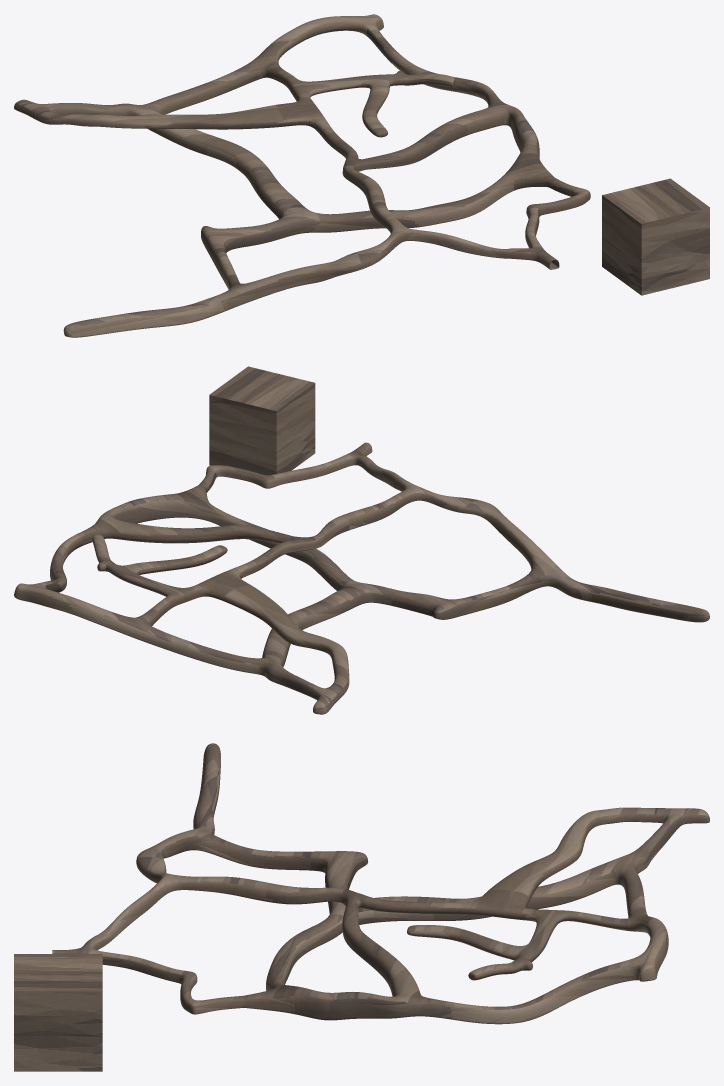
File: Cave.fbx
The picture shows the model from 3 angles, top to bottom: view 1: azimuth 30°, elevation 25°; view 2: azimuth 150°, elevation 25°; view 3: azimuth 270°, elevation 25°; orthographic projection. The views are drawn at different scales.
Visible parts, largest first — view 1: Cube, Cube.001; view 2: Cube, Cube.001; view 3: Cube, Cube.001.
Part boxes in pixels (x1=…): Cube: x1=14, y1=14, x2=590, y2=337; Cube.001: x1=602, y1=178, x2=709, y2=295; Cube: x1=14, y1=442, x2=709, y2=714; Cube.001: x1=209, y1=366, x2=315, y2=475; Cube: x1=52, y1=743, x2=709, y2=1024; Cube.001: x1=14, y1=954, x2=102, y2=1071.
Size of the model in its own units: 17326 by 2193 by 16732.
Materials: 2 (2 with a texture image).
